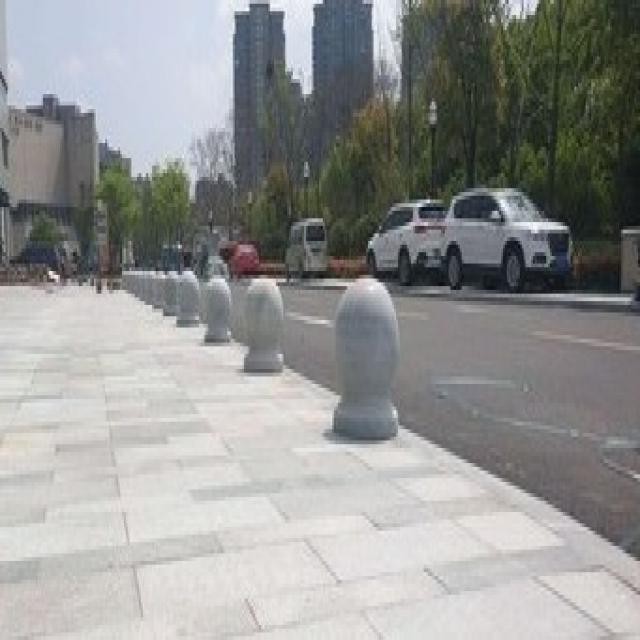car: (439, 177, 571, 286), (364, 192, 441, 282), (282, 214, 326, 274)
spherical_roadblock: (326, 263, 398, 433), (240, 271, 284, 373), (201, 267, 231, 343), (172, 260, 200, 328)
